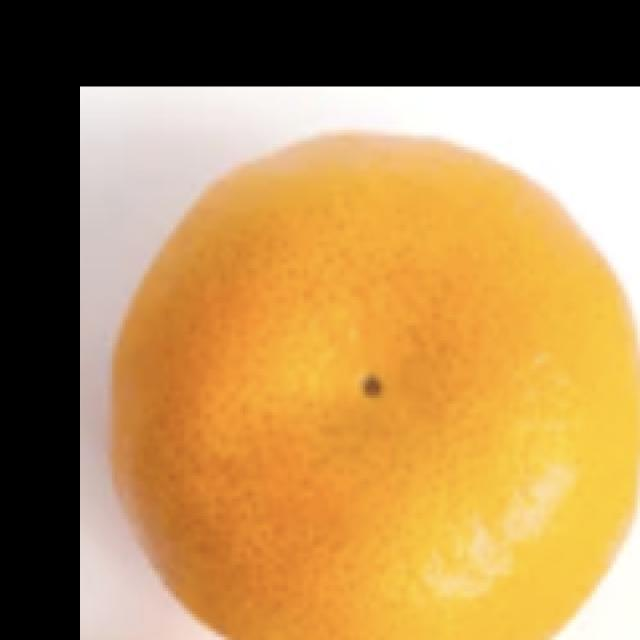Orange: (108, 128, 639, 639)
